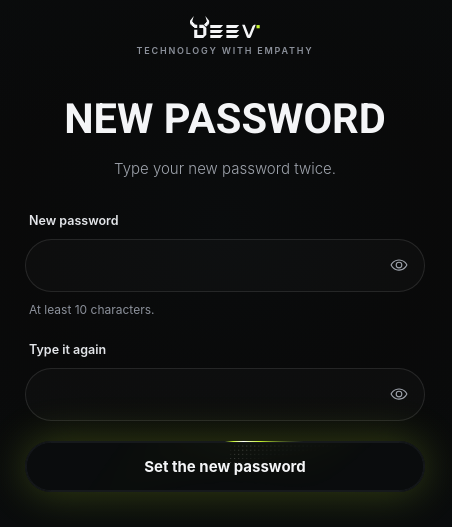
it: opening a reset link › sends somebody to sign in rather than signing them in
Type "a-brand-new-password" into the password field labelled "New password" at (225, 265), box [25,239,425,292]
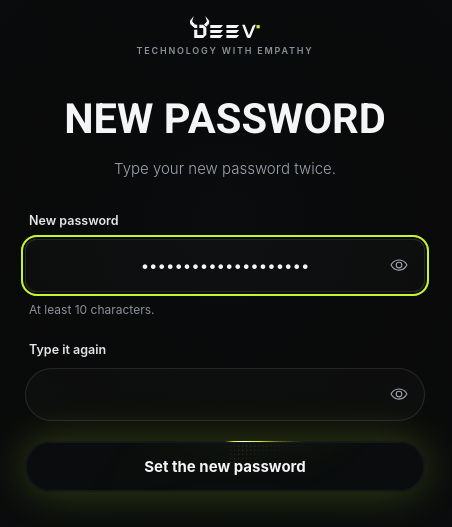
Type "a-brand-new-password" into the password field labelled "Type it again" at (225, 394), box [25,368,425,421]
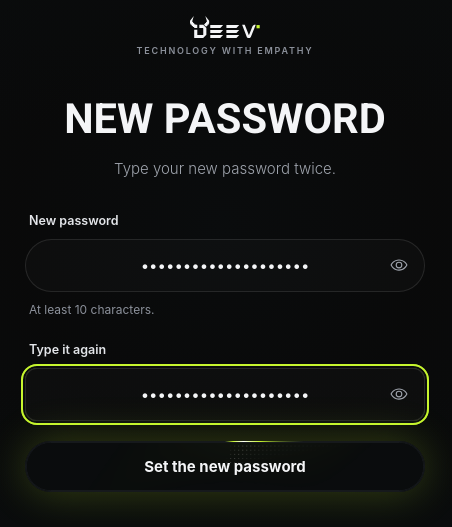
Click the button "Set the new password" at (225, 467), box [25,441,425,492]
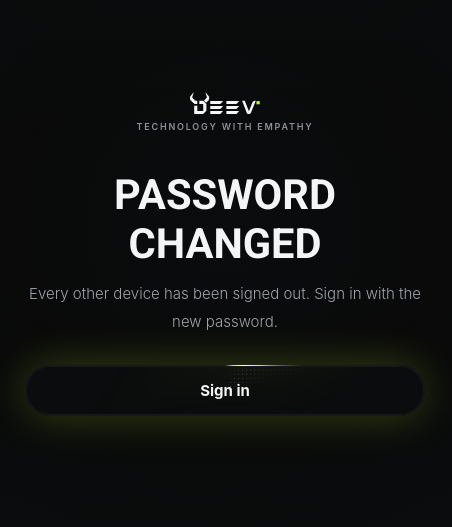
Now the heading "PASSWORD CHANGED" is shown, box [114,166,336,280]
